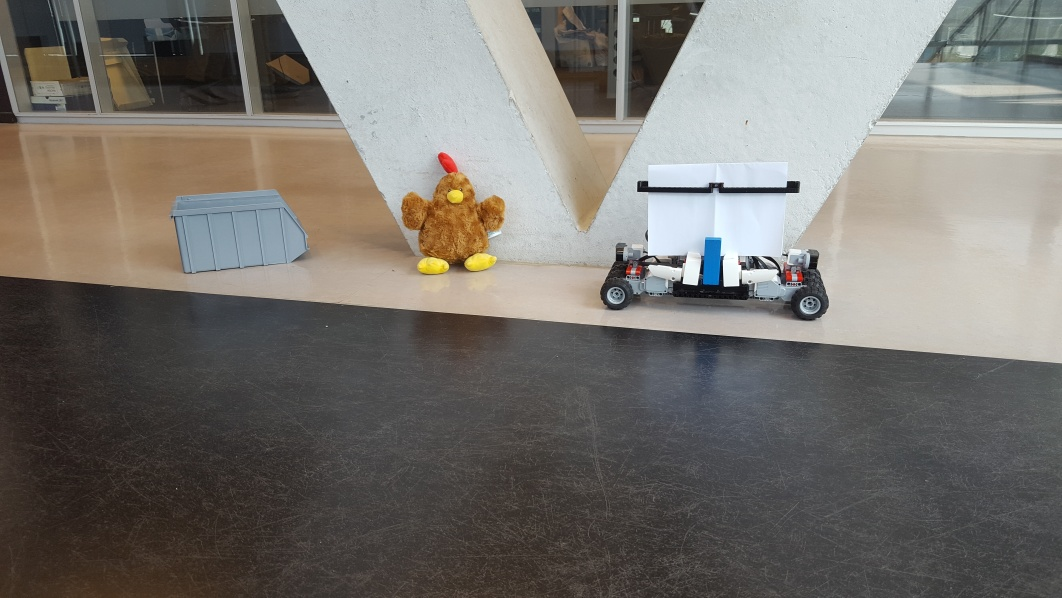beam: (698, 234, 722, 290)
chicken: (399, 151, 505, 284)
tray: (169, 186, 311, 274)
